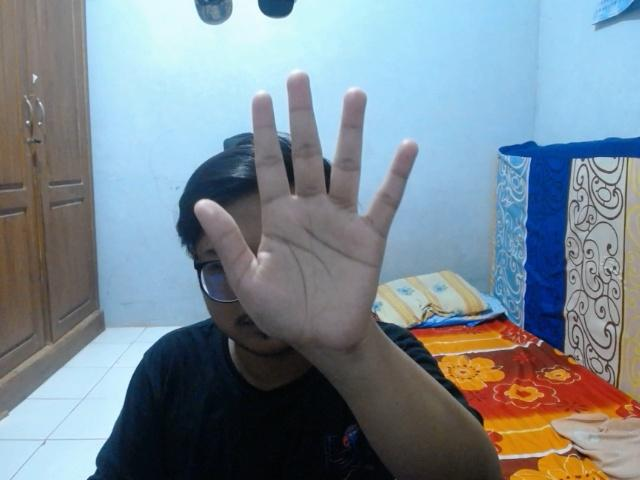Release: (187, 66, 426, 351)
